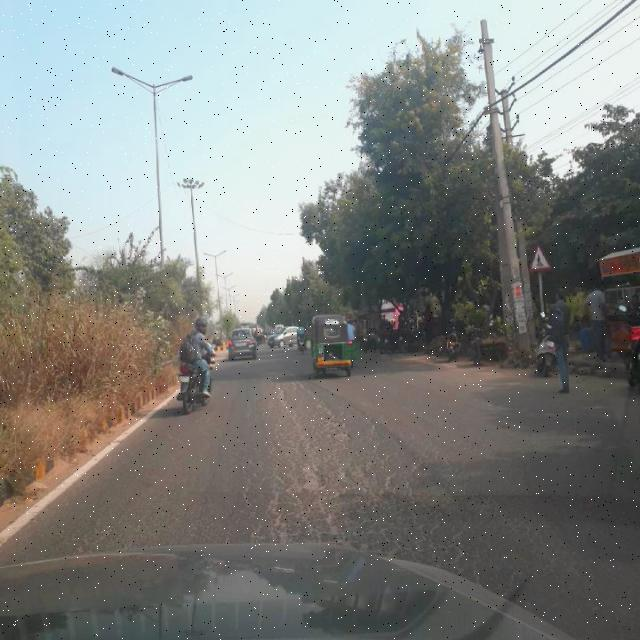D20: (239, 375, 564, 593)
D40: (295, 448, 330, 508), (329, 424, 363, 448)
